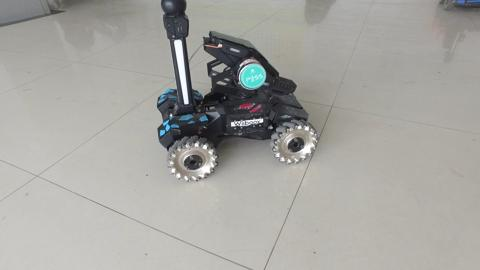chariot: (155, 1, 318, 184)
